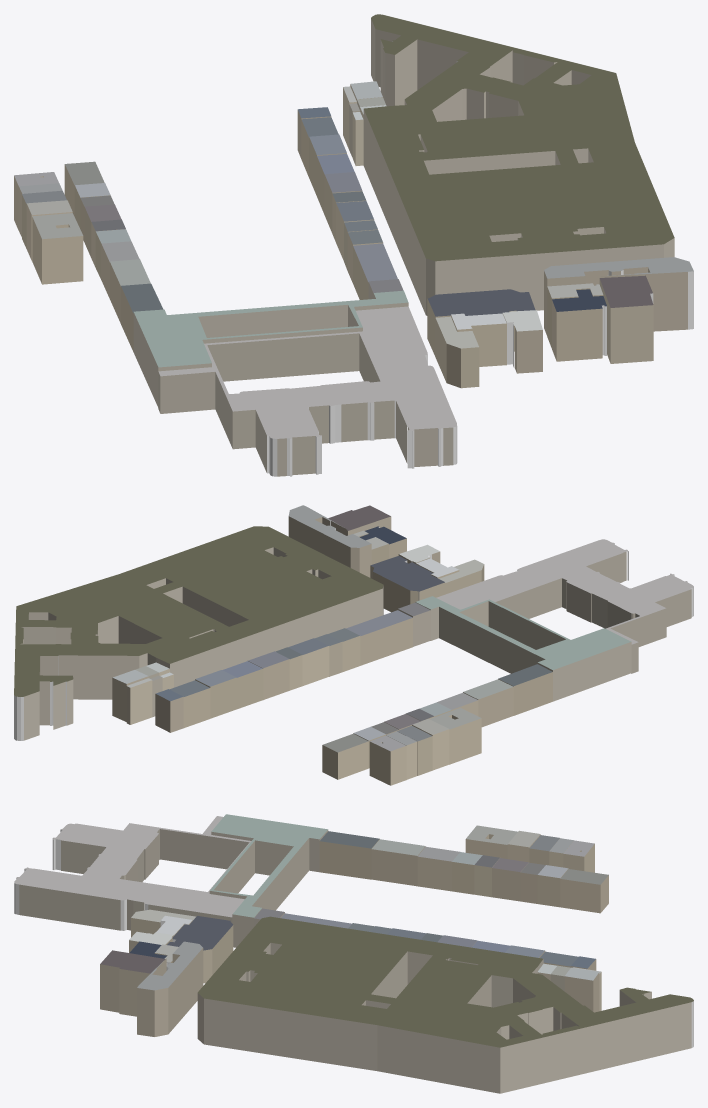
The picture shows the model from 3 angles, top to bottom: view 1: azimuth 30°, elevation 25°; view 2: azimuth 150°, elevation 25°; view 3: azimuth 270°, elevation 25°; orthographic projection. The views are drawn at different scales.
Parts seen in each view (by area): view 1: tuile; view 2: tuile; view 3: tuile.
Part boxes in pixels (<box>): tuile: <box>14,14,693,476</box>; tuile: <box>14,505,693,785</box>; tuile: <box>14,814,693,1093</box>.
Bounding box in the file's own units: 311 × 28.77 × 360.
